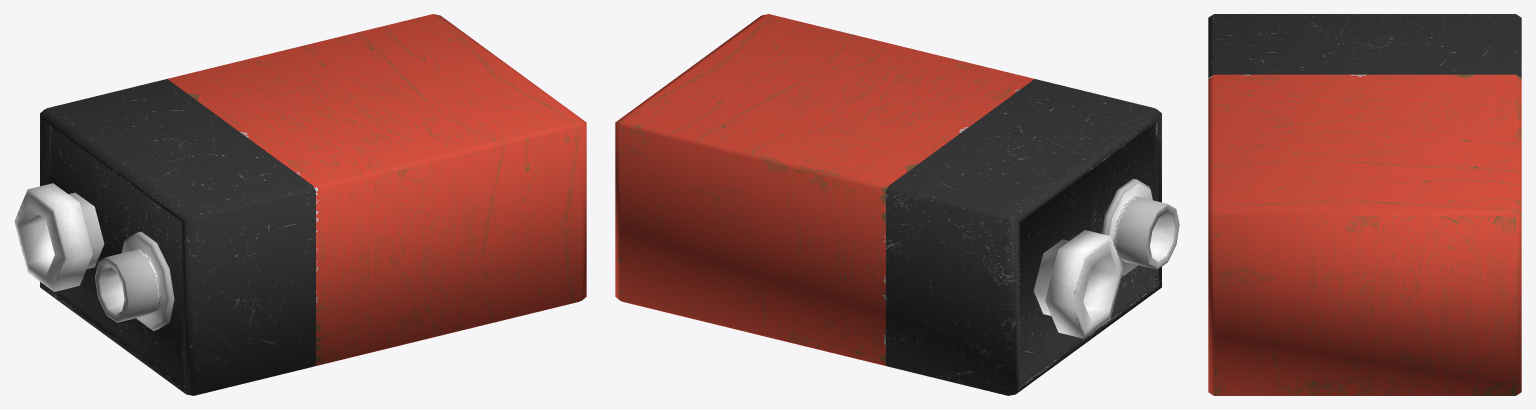
Rendered from battery.fbx.
3 renders of one model, left to right at view 1: azimuth 30°, elevation 25°; view 2: azimuth 150°, elevation 25°; view 3: azimuth 270°, elevation 25°, orthographic. The views are drawn at different scales.
Parts seen in each view (by area): view 1: Cube.001, Circle, Circle.002; view 2: Cube.001, Circle, Circle.002; view 3: Cube.001.
Part boxes in pixels (x1=…): Cube.001: x1=40, y1=14, x2=586, y2=395; Circle: x1=14, y1=183, x2=104, y2=291; Circle.002: x1=95, y1=231, x2=174, y2=330; Cube.001: x1=615, y1=14, x2=1161, y2=395; Circle: x1=1033, y1=230, x2=1123, y2=338; Circle.002: x1=1102, y1=178, x2=1179, y2=277; Cube.001: x1=1208, y1=14, x2=1521, y2=395.
Size of the model in its own units: 25.43 by 15.02 by 9.89.
